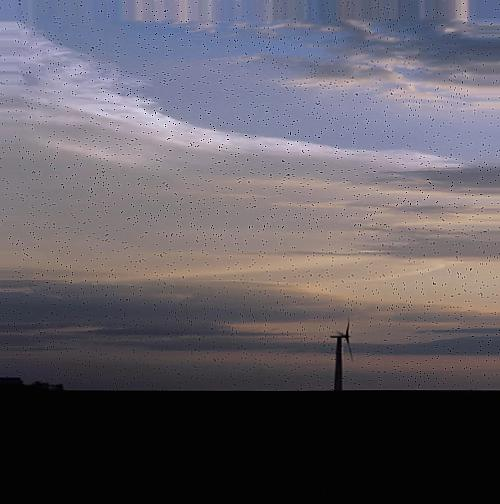wind turbine: (325, 317, 353, 391)
